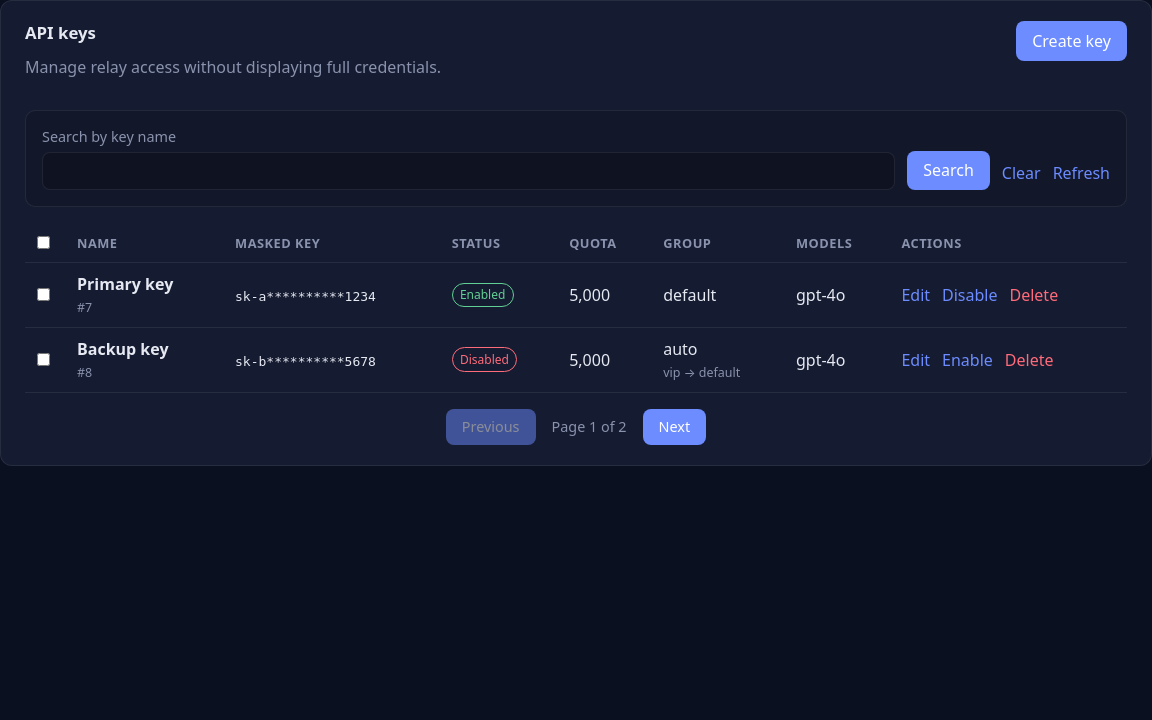
Scenario: RelayTokenManager › edits the complete non-secret policy and isolates status-only updates
Click the button "Edit" in the row of "Primary key" at (916, 295), box [901,278,930,312]
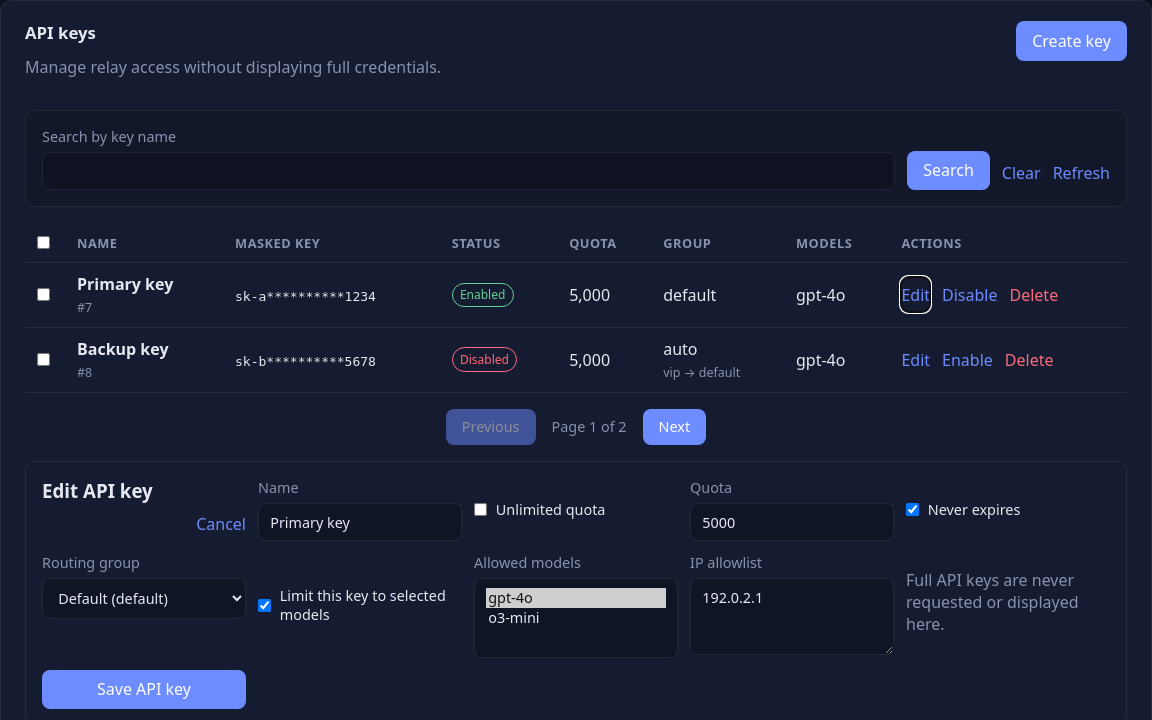
Replace the text in the field labelled "Name" with "Renamed key" at (360, 522), box [258,503,462,541]
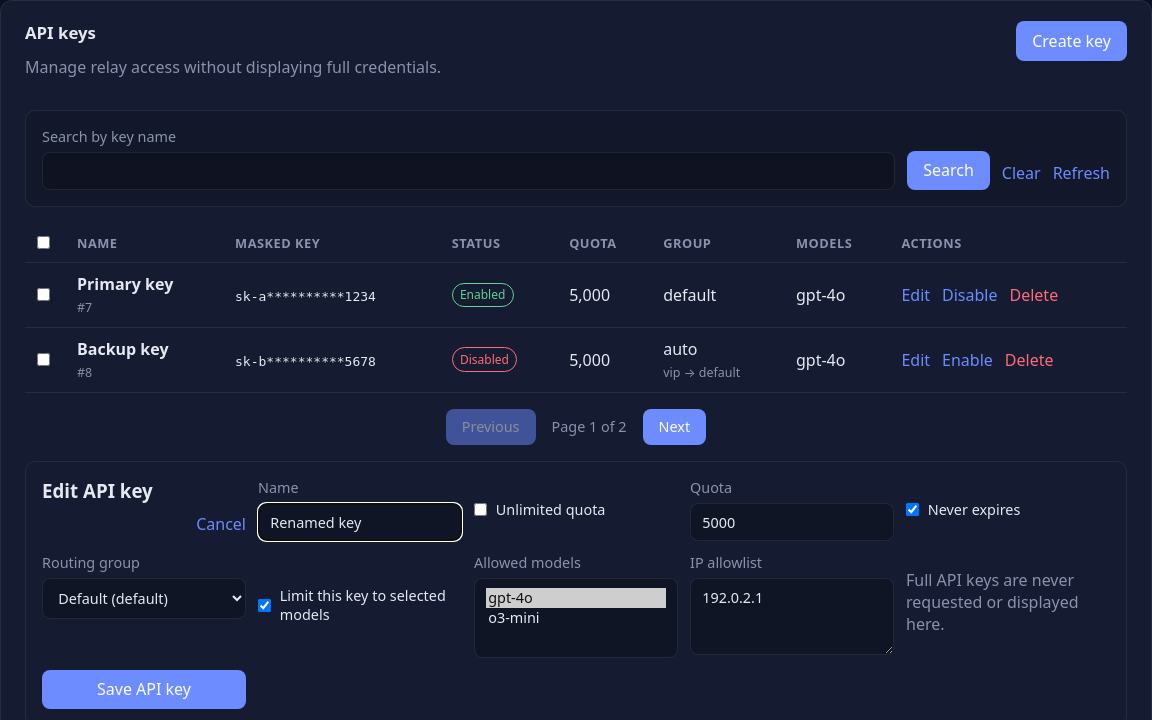
Click the button "Save API key" at (144, 689), box [42,670,246,709]
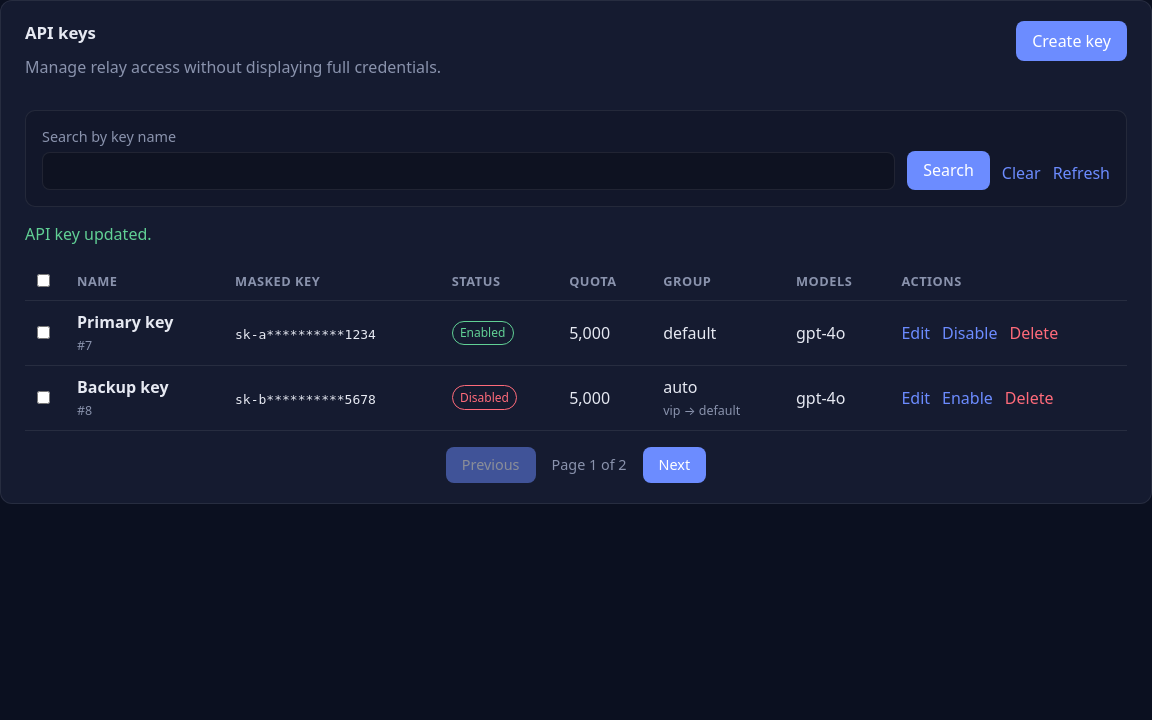
Click the button "Disable" at (970, 333), box [942,316,998,350]
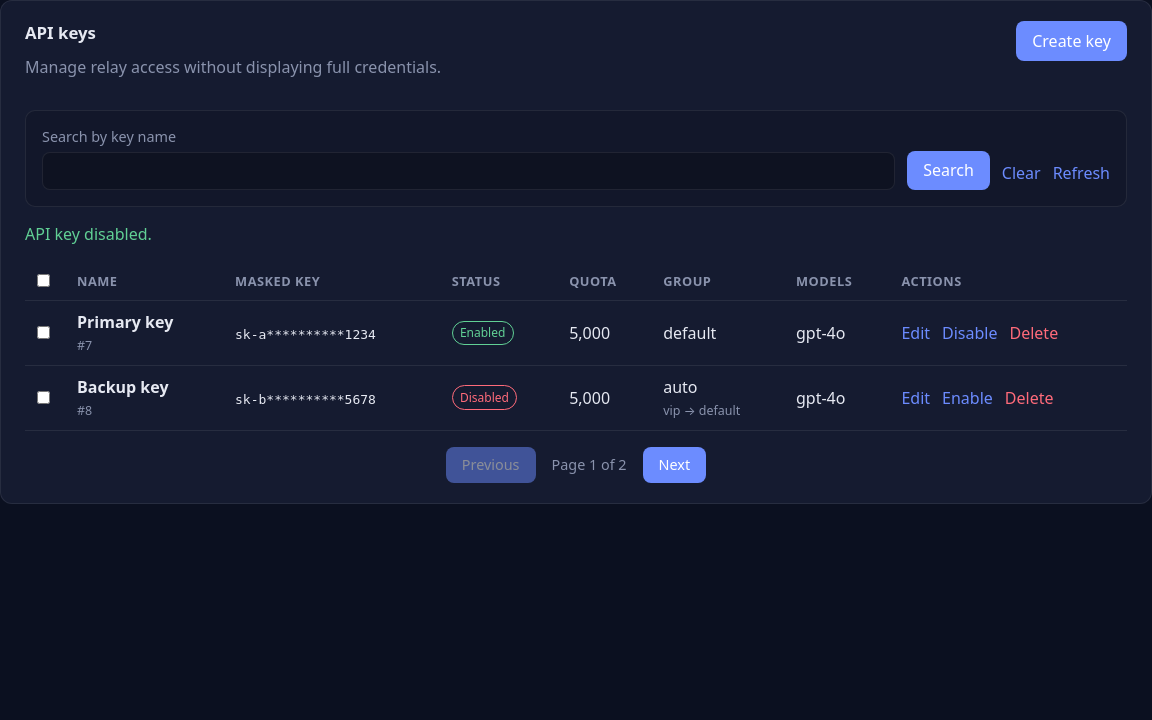
Result: the text "API key disabled." is shown at [25,223,152,245]
